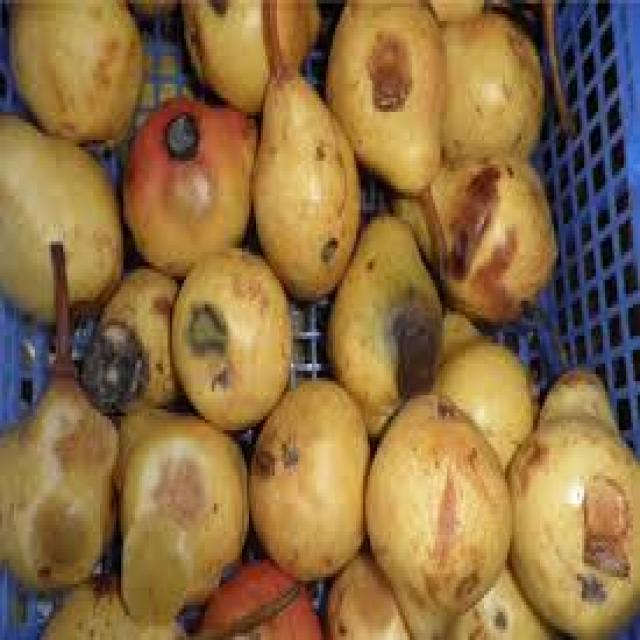organic waste: (0, 242, 114, 594), (500, 364, 638, 636), (363, 384, 510, 636), (323, 0, 444, 297), (246, 0, 356, 297), (114, 402, 249, 623), (384, 157, 554, 329), (324, 206, 442, 441), (0, 108, 119, 326), (244, 374, 368, 577), (168, 241, 288, 427), (4, 0, 142, 143), (428, 304, 535, 472), (437, 7, 540, 164), (179, 0, 318, 115), (79, 262, 184, 409), (191, 552, 319, 636), (35, 570, 191, 637), (314, 546, 414, 636), (442, 563, 559, 637), (538, 0, 570, 133), (421, 0, 482, 21), (121, 0, 179, 17)
